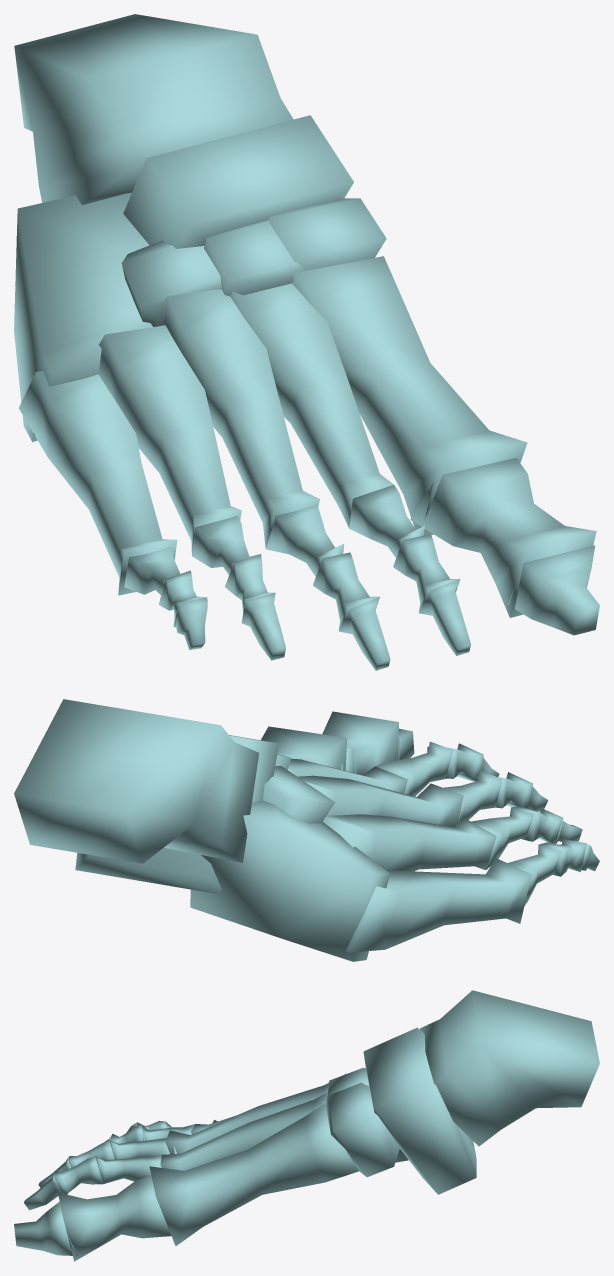
File: Skelly_foot.R.fbx
3 views of the same model, one above another, from view 1: azimuth 30°, elevation 25°; view 2: azimuth 150°, elevation 25°; view 3: azimuth 270°, elevation 25° (orthographic). The views are drawn at different scales.
Visible parts, largest first — view 1: Skelly_foot.R; view 2: Skelly_foot.R; view 3: Skelly_foot.R.
Part boxes in pixels (x1,y1,x2,y2): Skelly_foot.R: (14,14,599,670); Skelly_foot.R: (14,699,599,961); Skelly_foot.R: (14,990,599,1261).
Bounding box in the file's own units: 9.91 × 8.77 × 21.62.
